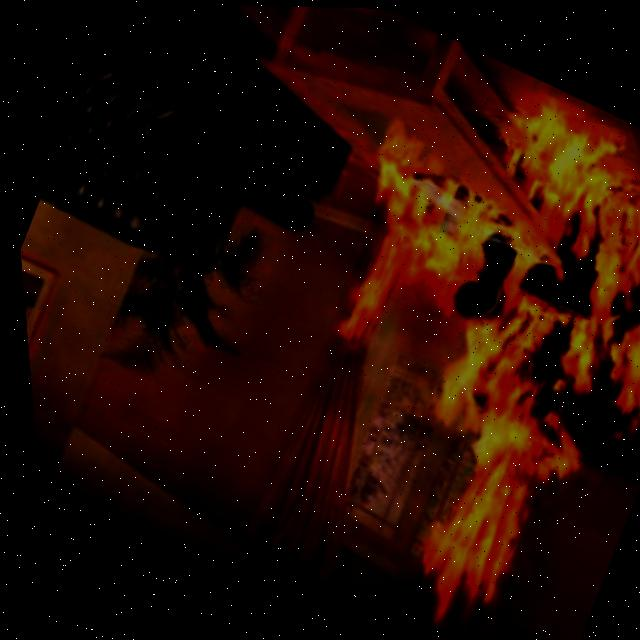Fire: (322, 269, 638, 640), (262, 91, 557, 404), (406, 77, 640, 433)
